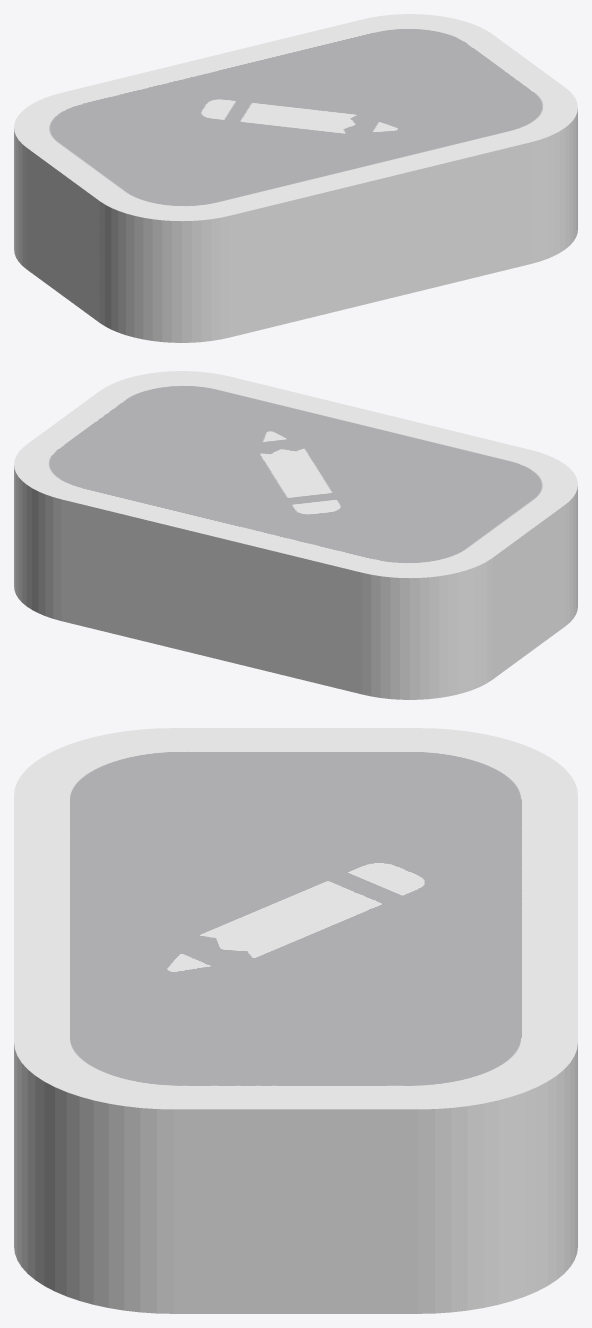
Rendered from assignment_deck.fbx.
3 renders of one model, top to bottom at view 1: azimuth 30°, elevation 25°; view 2: azimuth 150°, elevation 25°; view 3: azimuth 270°, elevation 25°, orthographic. The views are drawn at different scales.
Visible parts, largest first — view 1: Cube; view 2: Cube; view 3: Cube.
Part boxes in pixels (x1=…): Cube: x1=14, y1=14, x2=577, y2=342; Cube: x1=14, y1=371, x2=577, y2=699; Cube: x1=14, y1=728, x2=577, y2=1313.
Bounding box in the file's own units: 8 × 2 × 5.
1 material, 1 textured.
